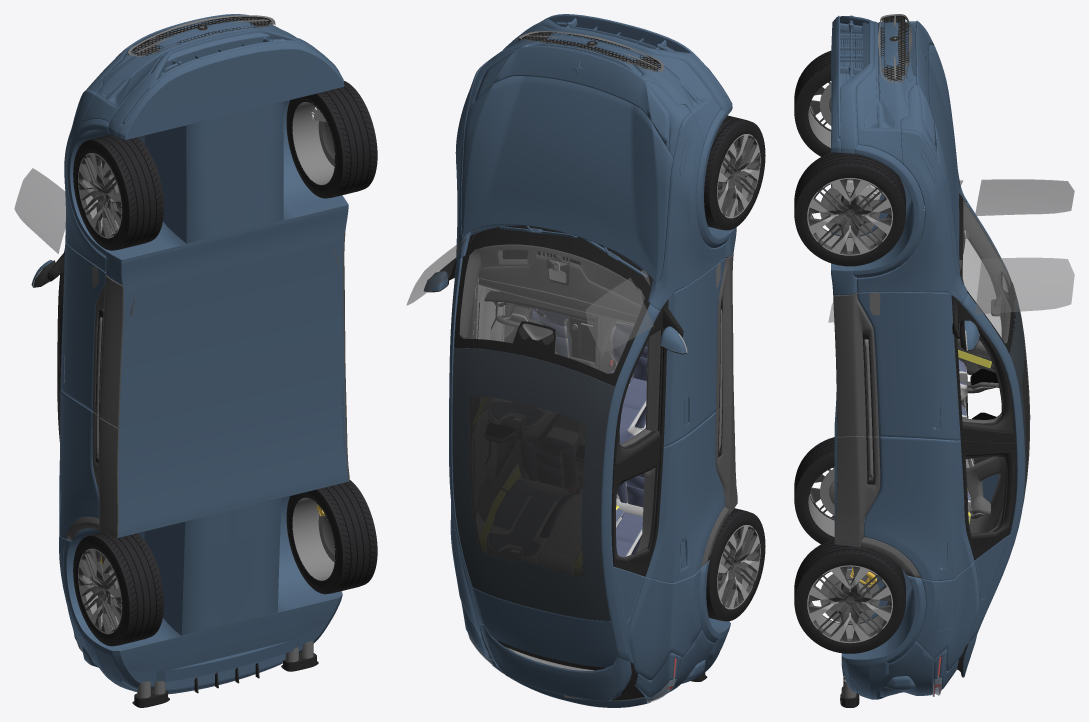
File: The_Last_Drive_Car.fbx
3 renders of one model, left to right at view 1: azimuth 30°, elevation 25°; view 2: azimuth 150°, elevation 25°; view 3: azimuth 270°, elevation 25°, orthographic. The views are drawn at different scales.
Visible parts, largest first — view 1: Byton_Optimazile_LookDev_SM_Body_Out, Byton_Optimazile_LookDev_SK_FD_Right, Wheel_FL, Wheel_RL, Wheel_FR, Wheel_RR, Byton_Optimazile_LookDev_SK_RD_Right, Byton_Optimazile_LookDev_SK_RD_Right_Glass, Dual_Exhausts, Front_Grille; view 2: Byton_Optimazile_LookDev_SM_Body_Out, Byton_Optimazile_LookDev_SK_FD_Right, Byton_Optimazile_LookDev_SK_RD_Right, ControlPanel, Interior_Frame, Byton_Optimazile_LookDev_SM__Backdoor, Wheel_FL, Wheel_RL, Byton_Optimazile_LookDev_SK_RD_Right_Glass, Byton_Optimazile_LookDev_SK_FD_Left, BackSeat, Front_Grille (+5 smaller); view 3: Byton_Optimazile_LookDev_SM_Body_Out, Byton_Optimazile_LookDev_SK_FD_Left, Byton_Optimazile_LookDev_SK_RD_Left, Wheel_FR, Wheel_RR, Interior_Frame, Byton_Optimazile_LookDev_SK_RD_Left_Glass, Wheel_RL, Byton_Optimazile_LookDev_SK_RD_Right_Glass, Wheel_FL, Front_Grille, FrontSeat_Right.001 (+2 smaller).
Part boxes in pixels (x1=…): Byton_Optimazile_LookDev_SM_Body_Out: x1=57, y1=14, x2=348, y2=694; Byton_Optimazile_LookDev_SK_FD_Right: x1=31, y1=241, x2=123, y2=427; Wheel_FL: x1=73, y1=134, x2=164, y2=250; Wheel_RL: x1=73, y1=532, x2=164, y2=646; Wheel_FR: x1=286, y1=81, x2=377, y2=198; Wheel_RR: x1=286, y1=480, x2=377, y2=594; Byton_Optimazile_LookDev_SK_RD_Right: x1=57, y1=374, x2=121, y2=540; Byton_Optimazile_LookDev_SK_RD_Right_Glass: x1=14, y1=168, x2=65, y2=253; Dual_Exhausts: x1=132, y1=641, x2=318, y2=707; Front_Grille: x1=128, y1=15, x2=275, y2=56; Byton_Optimazile_LookDev_SM_Body_Out: x1=449, y1=14, x2=736, y2=702; Byton_Optimazile_LookDev_SK_FD_Right: x1=613, y1=253, x2=733, y2=474; Byton_Optimazile_LookDev_SK_RD_Right: x1=611, y1=397, x2=737, y2=582; ControlPanel: x1=478, y1=229, x2=666, y2=373; Interior_Frame: x1=454, y1=225, x2=652, y2=694; Byton_Optimazile_LookDev_SM__Backdoor: x1=480, y1=625, x2=650, y2=707; Wheel_FL: x1=704, y1=115, x2=765, y2=230; Wheel_RL: x1=706, y1=508, x2=765, y2=621; Byton_Optimazile_LookDev_SK_RD_Right_Glass: x1=585, y1=277, x2=653, y2=352; Byton_Optimazile_LookDev_SK_FD_Left: x1=424, y1=239, x2=519, y2=343; BackSeat: x1=616, y1=473, x2=644, y2=557; Front_Grille: x1=518, y1=31, x2=664, y2=72; Byton_Optimazile_LookDev_SM_Body_Out: x1=831, y1=15, x2=1030, y2=699; Byton_Optimazile_LookDev_SK_FD_Left: x1=833, y1=292, x2=1015, y2=442; Byton_Optimazile_LookDev_SK_RD_Left: x1=834, y1=435, x2=1016, y2=580; Wheel_FR: x1=794, y1=152, x2=905, y2=266; Wheel_RR: x1=794, y1=539, x2=905, y2=653; Interior_Frame: x1=856, y1=193, x2=1015, y2=670; Byton_Optimazile_LookDev_SK_RD_Left_Glass: x1=975, y1=257, x2=1074, y2=314; Wheel_RL: x1=794, y1=437, x2=834, y2=544; Byton_Optimazile_LookDev_SK_RD_Right_Glass: x1=975, y1=179, x2=1074, y2=215; Wheel_FL: x1=794, y1=50, x2=831, y2=156; Front_Grille: x1=878, y1=14, x2=911, y2=82; FrontSeat_Right.001: x1=958, y1=359, x2=999, y2=401.
Size of what is drawn, in the model's own units: 2.09 by 4.89 by 1.95.
